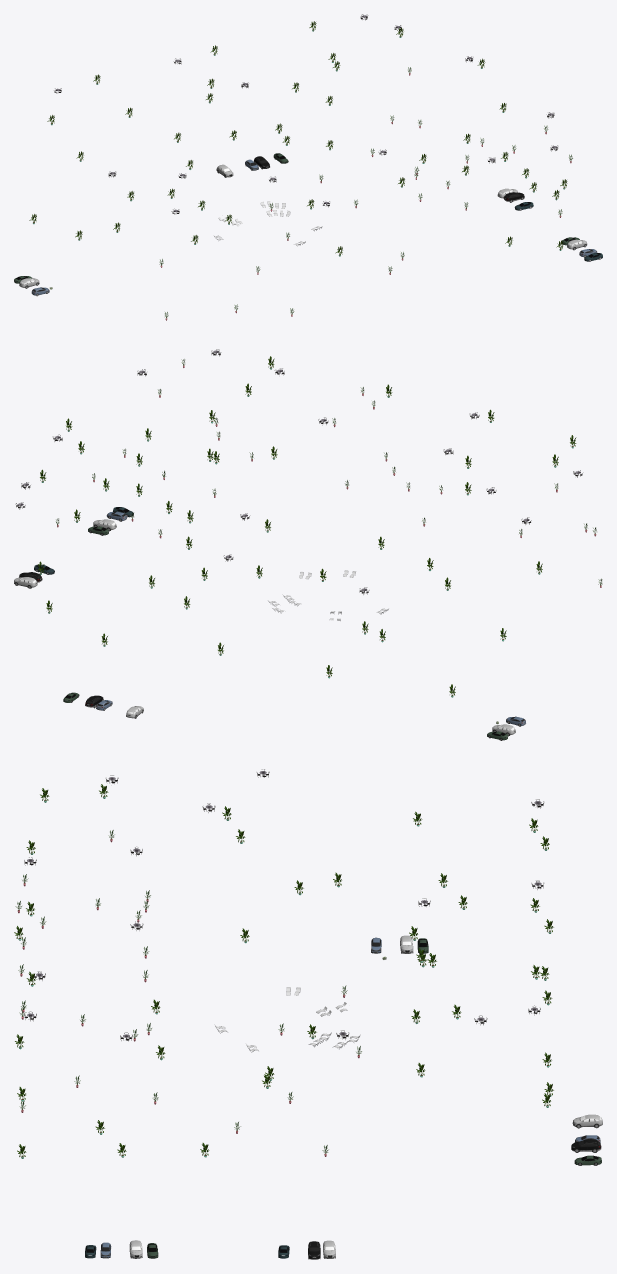
File: MAG_11_plant_build_B.glb
3 views of the same model, one above another, from view 1: azimuth 30°, elevation 25°; view 2: azimuth 150°, elevation 25°; view 3: azimuth 270°, elevation 25° (orthographic). The views are drawn at different scales.
Visible parts, largest first — view 1: B_plant; view 2: B_plant; view 3: B_plant.
Part boxes in pixels (left/top/right/bottom): B_plant: left=14, top=14, right=602, bottom=320; B_plant: left=14, top=349, right=602, bottom=740; B_plant: left=14, top=769, right=602, bottom=1259.
Size of the model in its own units: 125 by 38.56 by 97.99.
14 materials, 13 textured.
